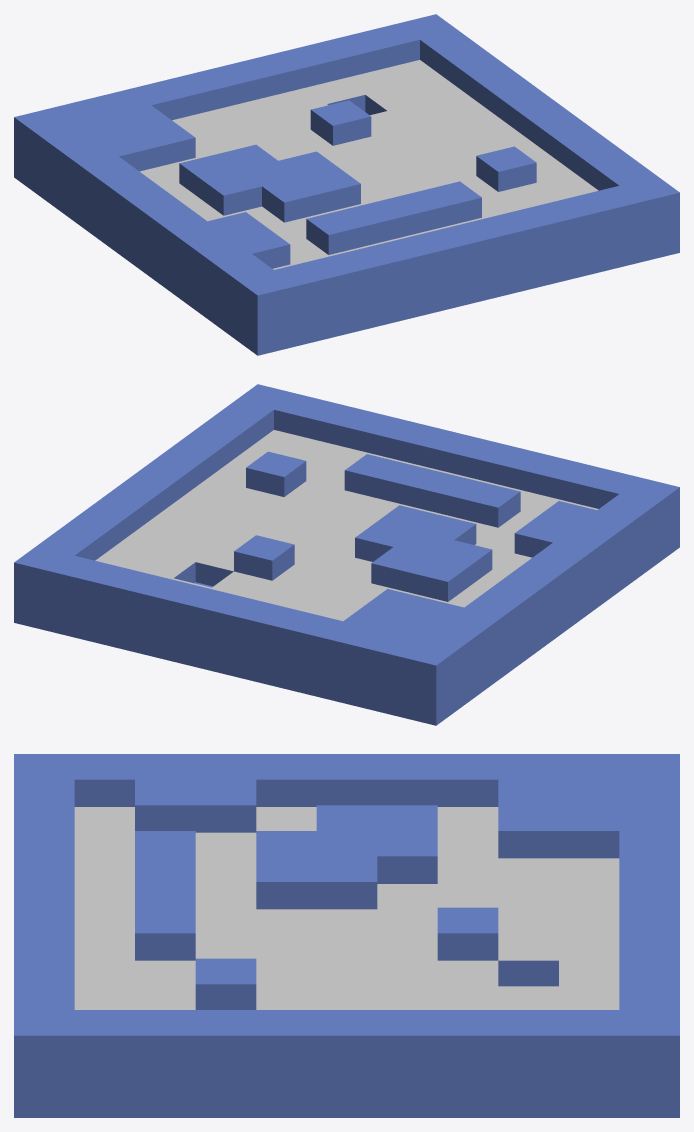
File: 026_platform.fbx
3 renders of one model, top to bottom at view 1: azimuth 30°, elevation 25°; view 2: azimuth 150°, elevation 25°; view 3: azimuth 270°, elevation 25°, orthographic. The views are drawn at different scales.
Parts seen in each view (by area): view 1: Cube; view 2: Cube; view 3: Cube.
Part boxes in pixels (x1,y1,x2,y2): Cube: (14, 14, 679, 355); Cube: (14, 384, 679, 725); Cube: (14, 754, 679, 1117).
Bounding box in the file's own units: 1100 × 150 × 1100.
